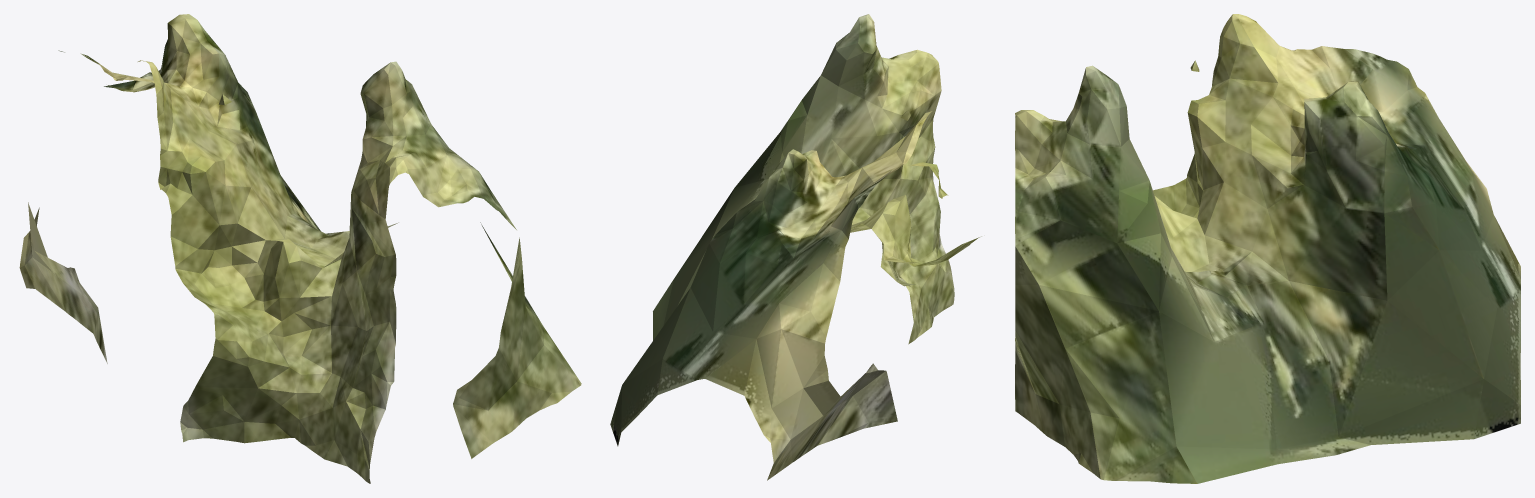
The picture shows the model from 3 angles, left to right: view 1: azimuth 30°, elevation 25°; view 2: azimuth 150°, elevation 25°; view 3: azimuth 270°, elevation 25°; orthographic projection. The views are drawn at different scales.
Bounding box in the file's own units: 4.37 × 4.24 × 5.9.
Materials: 3 (3 with a texture image).
